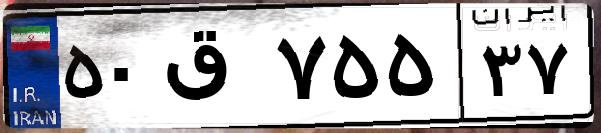0: (110, 28, 158, 98)
3: (475, 38, 525, 113)
5: (385, 28, 445, 110), (330, 28, 385, 110), (57, 26, 110, 100)
7: (270, 28, 330, 110), (525, 38, 570, 115)
ق: (158, 20, 270, 120)
